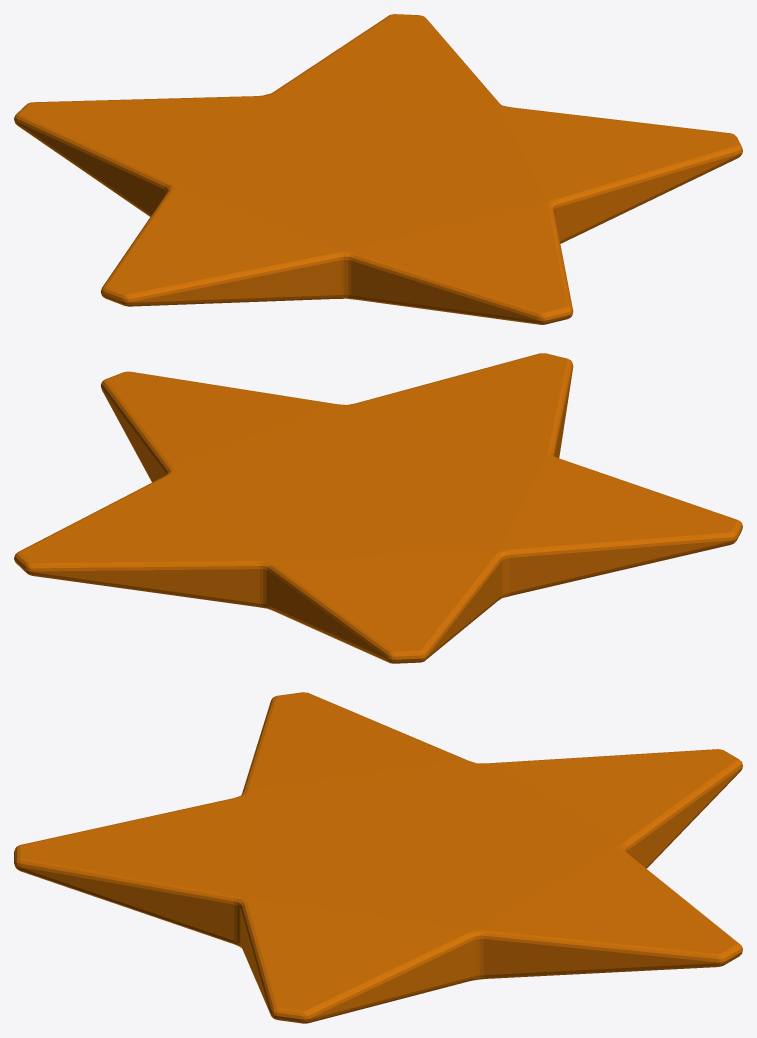
The model's file is estrela laranja 1.fbx.
3 views of the same model, one above another, from view 1: azimuth 30°, elevation 25°; view 2: azimuth 150°, elevation 25°; view 3: azimuth 270°, elevation 25° (orthographic). The views are drawn at different scales.
Visible parts, largest first — view 1: Cylinder.011; view 2: Cylinder.011; view 3: Cylinder.011.
Part boxes in pixels (bbox=[...]): Cylinder.011: bbox=[14, 14, 742, 324]; Cylinder.011: bbox=[14, 353, 742, 663]; Cylinder.011: bbox=[14, 692, 742, 1023].
Bounding box in the file's own units: 0.3317 × 0.0233 × 0.3159.
